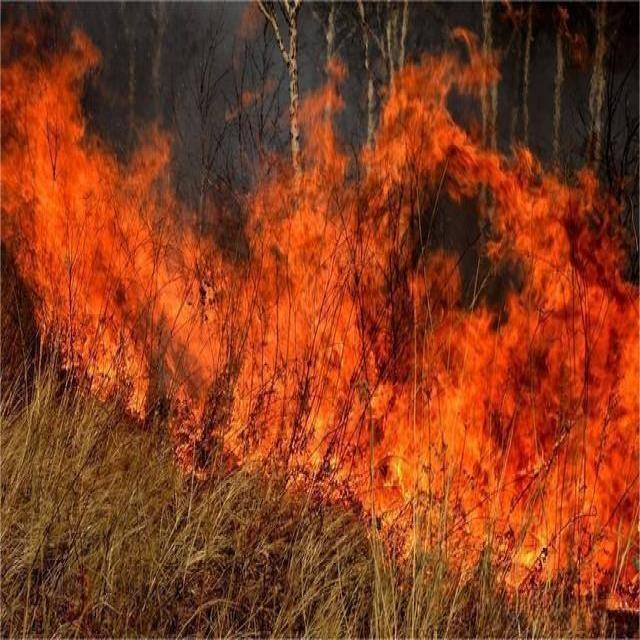Fire: (496, 153, 640, 610), (374, 61, 490, 571), (0, 44, 151, 404), (262, 73, 372, 494), (152, 128, 261, 466)
